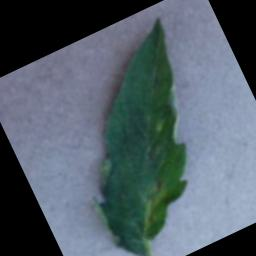Leaf_Mold: (126, 178, 179, 234)
